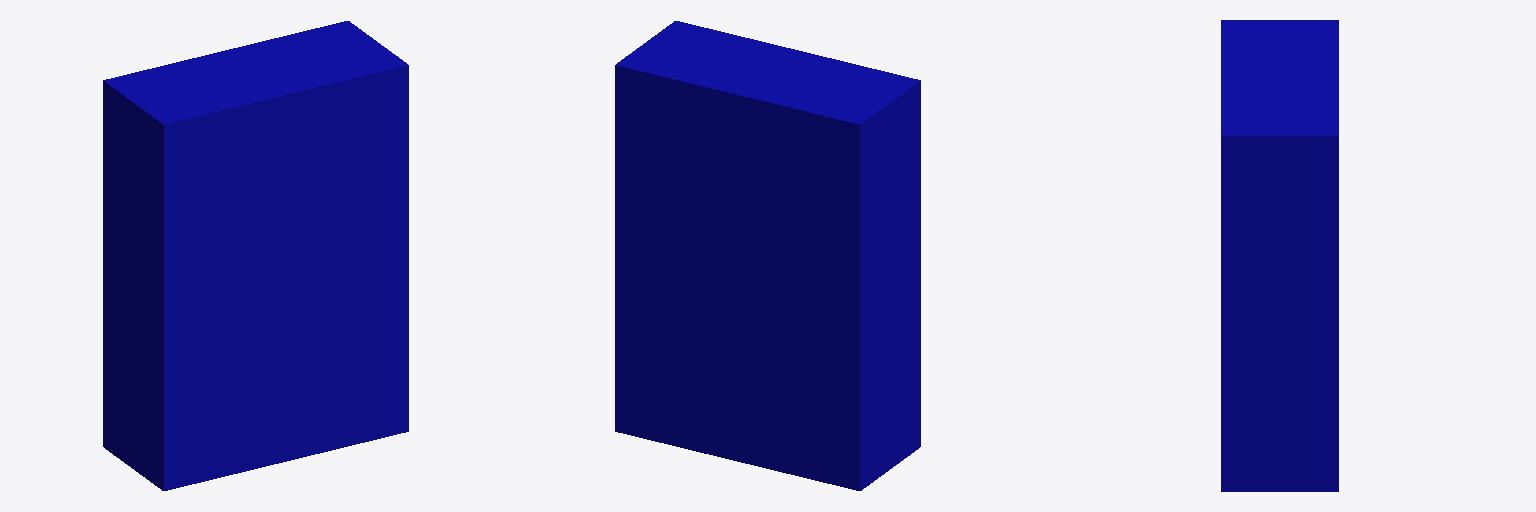
The robot description file, URDF, robot "ronzoni":
<robot
  name="ronzoni">
  <link name="ronzoni">
    <inertial>
      <origin xyz="0.0 0.0 0.0" rpy="0 0 0"/>
      <mass value="0.5"/>
      <inertia ixx="1" ixy="0.0" ixz="0.0" iyy="1" iyz="0.0" izz="1" />
    </inertial>

    <visual>
      <geometry>
        <mesh filename="../meshes/ronzoni.dae" scale="1 1 1" />
      </geometry>
     </visual>

    <collision>
      <geometry>
        <mesh filename="../meshes/ronzoni.dae" scale="1 1 1" />
      </geometry>
    </collision>

  </link>
</robot>

--- What the picture shows (computed from the rendered views, not written in the file) ---
The picture shows the robot from 3 angles, left to right: view 1: azimuth 30°, elevation 25°; view 2: azimuth 150°, elevation 25°; view 3: azimuth 270°, elevation 25°; orthographic projection.
Model ronzoni with 1 links and 0 joints (none), rooted at ronzoni, posed every joint at zero.
Links seen in each view (by area): view 1: ronzoni; view 2: ronzoni; view 3: ronzoni.
Boxes of the visible links, x1=… form: ronzoni: x1=103, y1=21, x2=408, y2=490; ronzoni: x1=615, y1=21, x2=920, y2=490; ronzoni: x1=1221, y1=20, x2=1338, y2=491.
Size in the robot's own frame: 0.14 by 0.06 by 0.2 metres.
Meshes: 1 distinct files referenced, 1 mesh visuals loaded (1 Collada DAE).